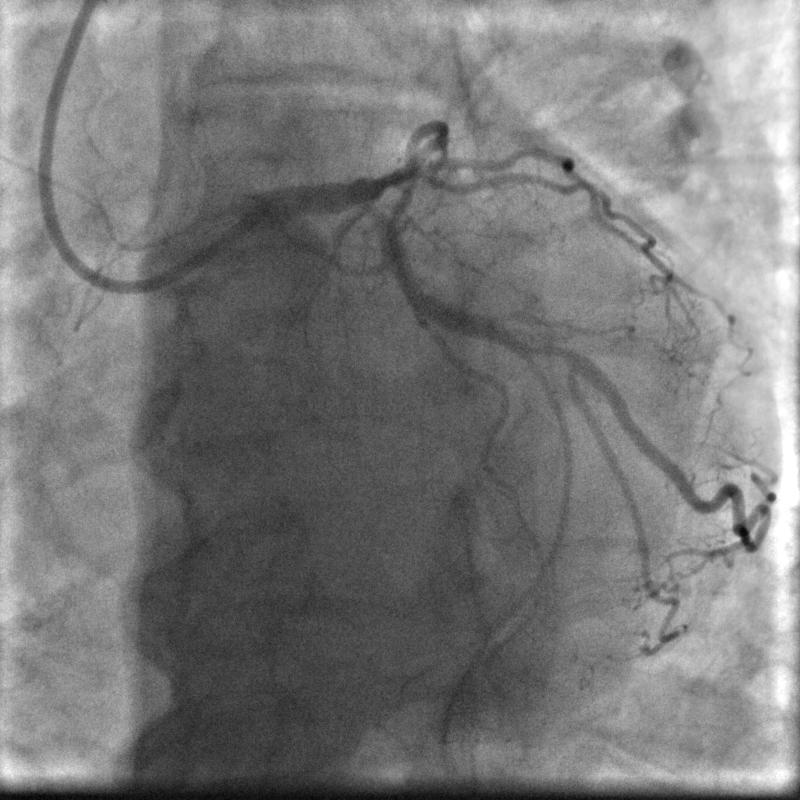Stenosis: (522, 336, 572, 361)
